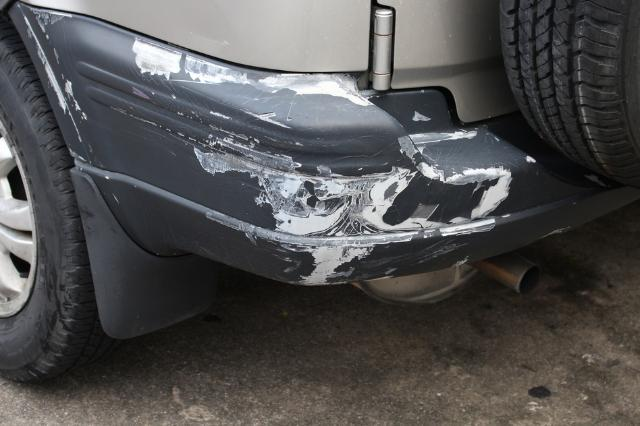Bumper: (30, 22, 517, 293)
